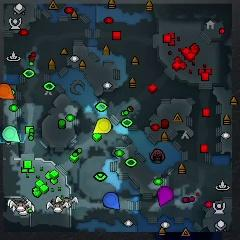p1: (102, 192, 120, 210)
p2: (3, 126, 21, 143)
p3: (158, 186, 173, 207)
p4: (93, 118, 112, 133)
p5: (0, 83, 15, 100)
